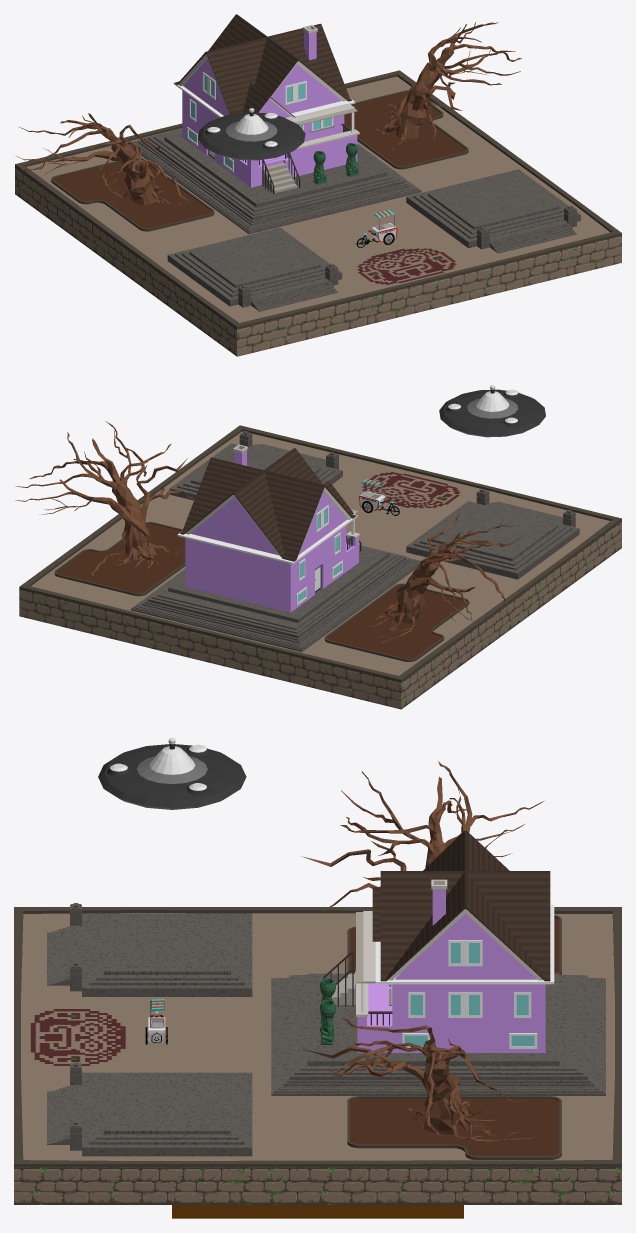
3 views of the same model, one above another, from view 1: azimuth 30°, elevation 25°; view 2: azimuth 150°, elevation 25°; view 3: azimuth 270°, elevation 25° (orthographic). The views are drawn at different scales.
Visible parts, largest first — view 1: Cube.011, Cube.391, OBJRANDOM_UFO, VEHICLES_SNOWBAL_BIKE; view 2: Cube.011, Cube.391, OBJRANDOM_UFO, VEHICLES_SNOWBAL_BIKE; view 3: Cube.011, Cube.391, OBJRANDOM_UFO, UNDERGROUND_ART_PIECE_VAN_GOGH, VEHICLES_SNOWBAL_BIKE.
Boxes of the visible parts, x1,y1,x2,y2 form: Cube.011: (15,22,621,356); Cube.391: (173,14,359,194); OBJRANDOM_UFO: (198,108,305,160); VEHICLES_SNOWBAL_BIKE: (356,209,397,247); Cube.011: (15,421,621,709); Cube.391: (177,444,361,612); OBJRANDOM_UFO: (439,385,545,437); VEHICLES_SNOWBAL_BIKE: (359,479,399,515); Cube.011: (14,761,621,1204); Cube.391: (323,830,554,1052); OBJRANDOM_UFO: (98,738,246,809); UNDERGROUND_ART_PIECE_VAN_GOGH: (172,1205,463,1218); VEHICLES_SNOWBAL_BIKE: (145,998,168,1044).
Bounding box in the file's own units: 5099 × 2074 × 4000.
Materials: 30 (6 with a texture image).
